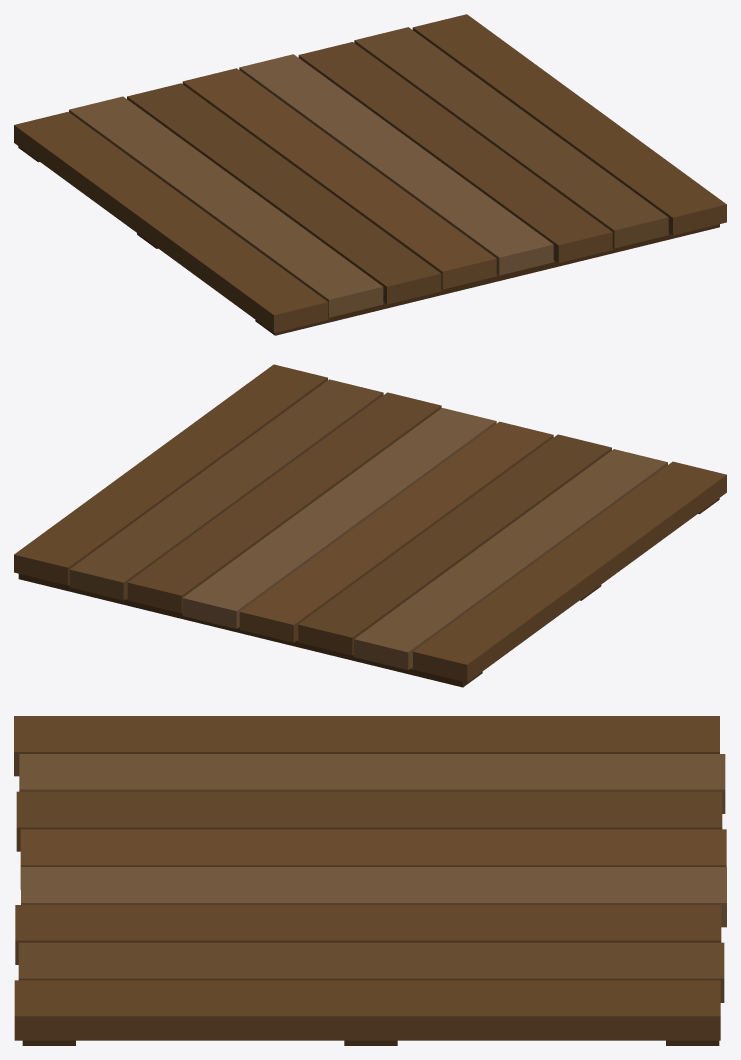
Rendered from Floor.glb.
3 renders of one model, top to bottom at view 1: azimuth 30°, elevation 25°; view 2: azimuth 150°, elevation 25°; view 3: azimuth 270°, elevation 25°, orthographic. The views are drawn at different scales.
Parts seen in each view (by area): view 1: Body; view 2: Body; view 3: Body.
Part boxes in pixels (bbox=[...]): Body: bbox=[14, 14, 726, 335]; Body: bbox=[14, 364, 726, 687]; Body: bbox=[14, 716, 726, 1045].
Size of what is drawn, in the model's own units: 7.95 by 0.4 by 7.98.
